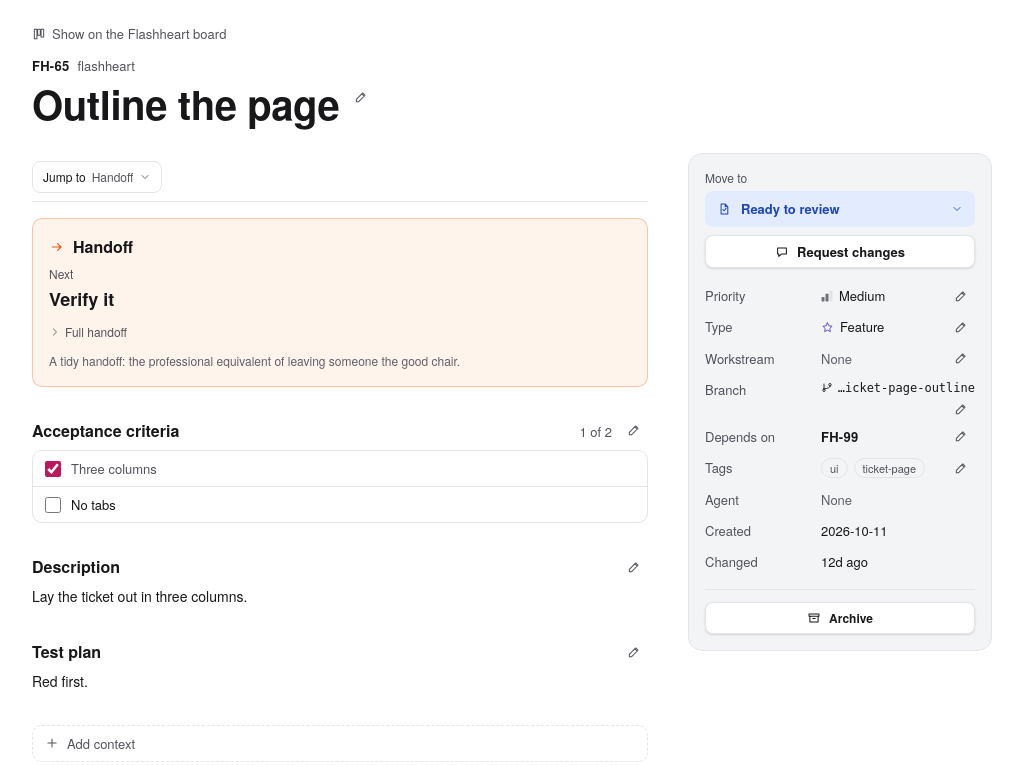
one edit at a time › switches at once when the open item has no changes
Click the button named "Edit description": (634, 567) [620, 553, 648, 581]
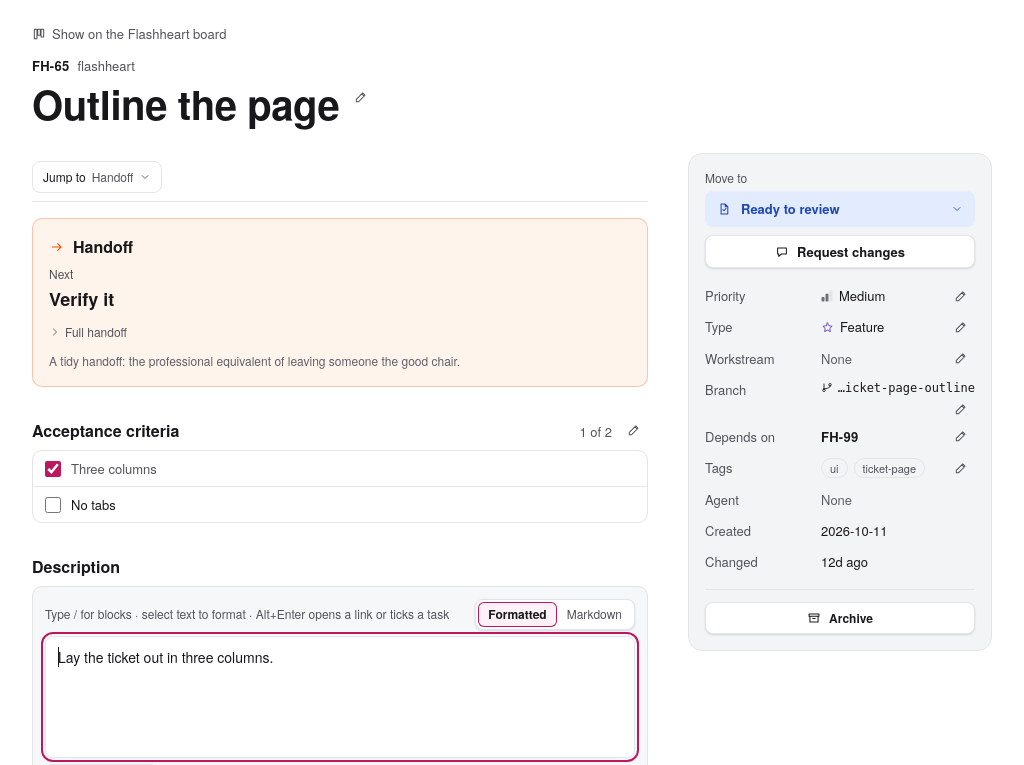
Click the button named "Edit type": (961, 327) [947, 313, 975, 341]
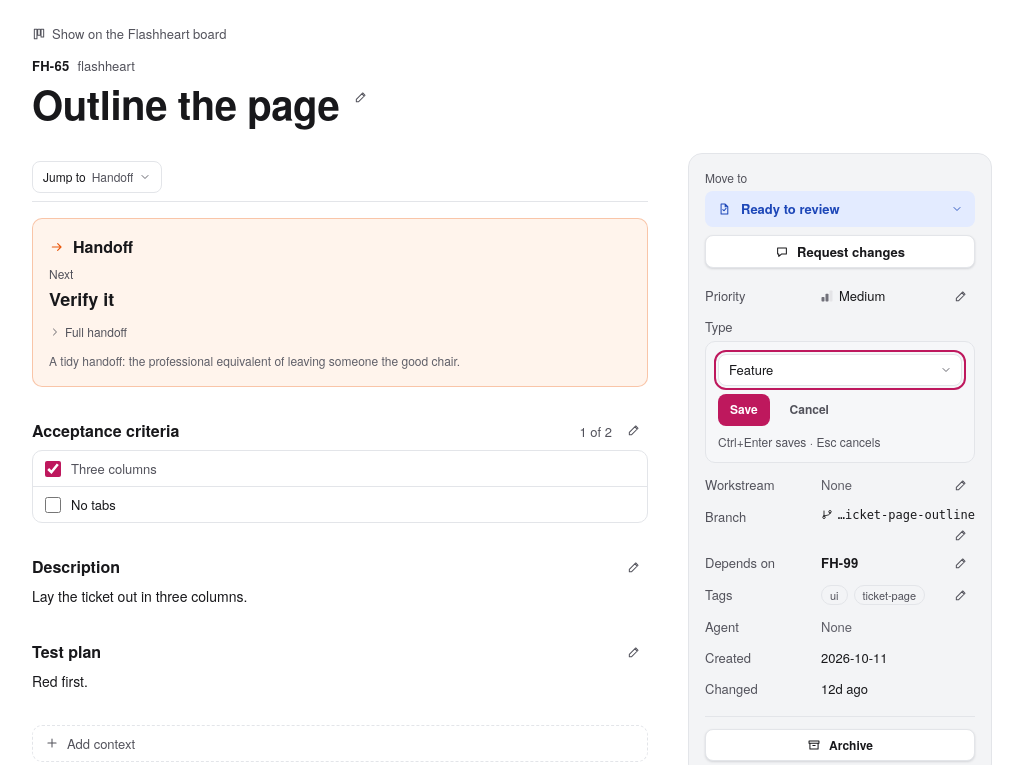
Result: the dropdown named "Type" is shown at [718, 354, 962, 386]
